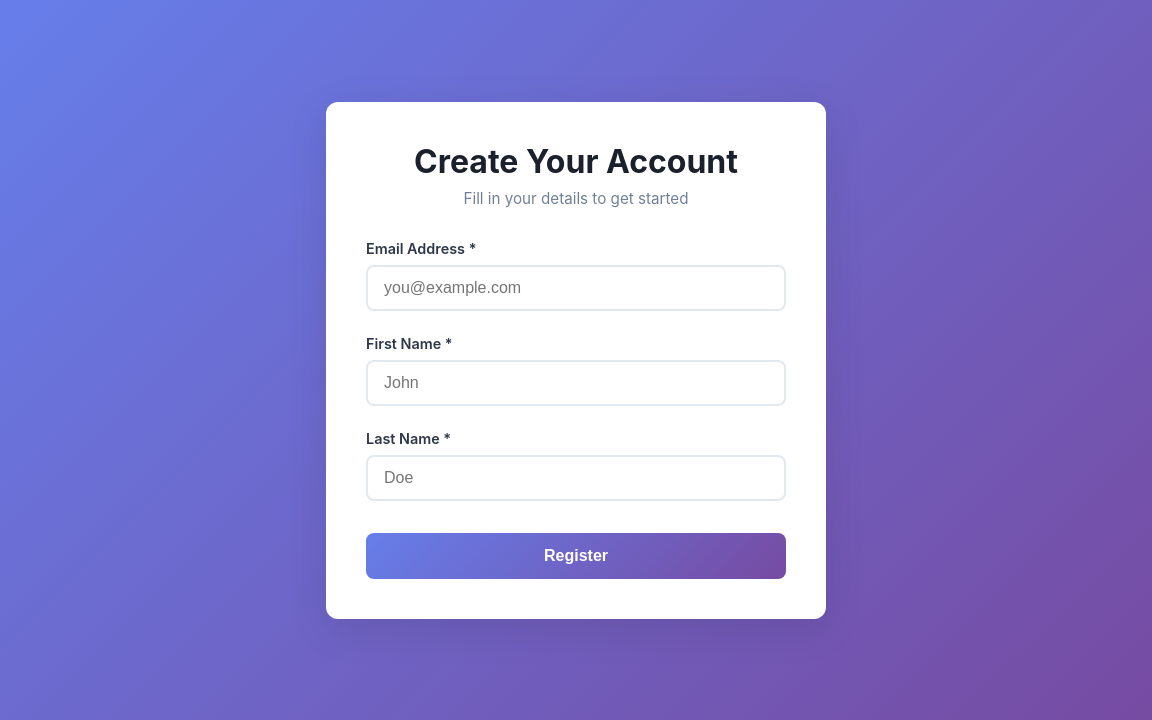
Test: RegistrationForm › shows validation errors for empty fields
Click the button "Register": (576, 556) [366, 532, 786, 578]
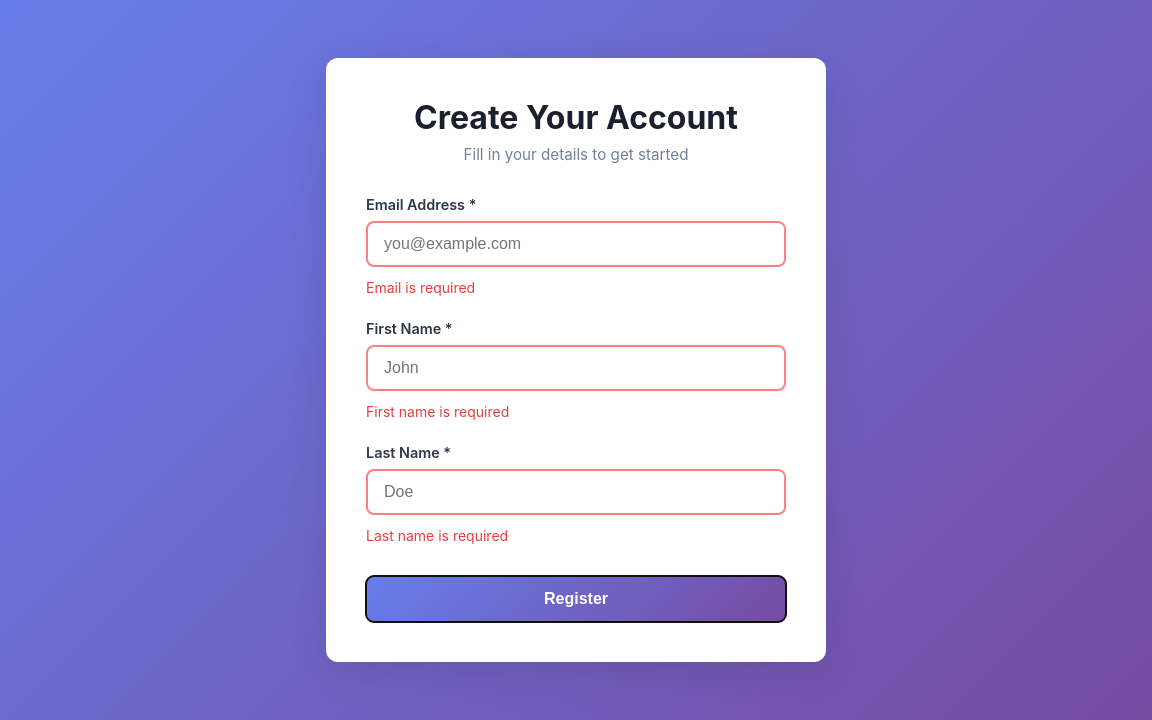
Check: the text "Email is required" is shown, box [366, 279, 475, 296]
Check: the text "First name is required" is shown, box [366, 403, 509, 420]
Check: the text "Last name is required" is shown, box [366, 527, 508, 544]
